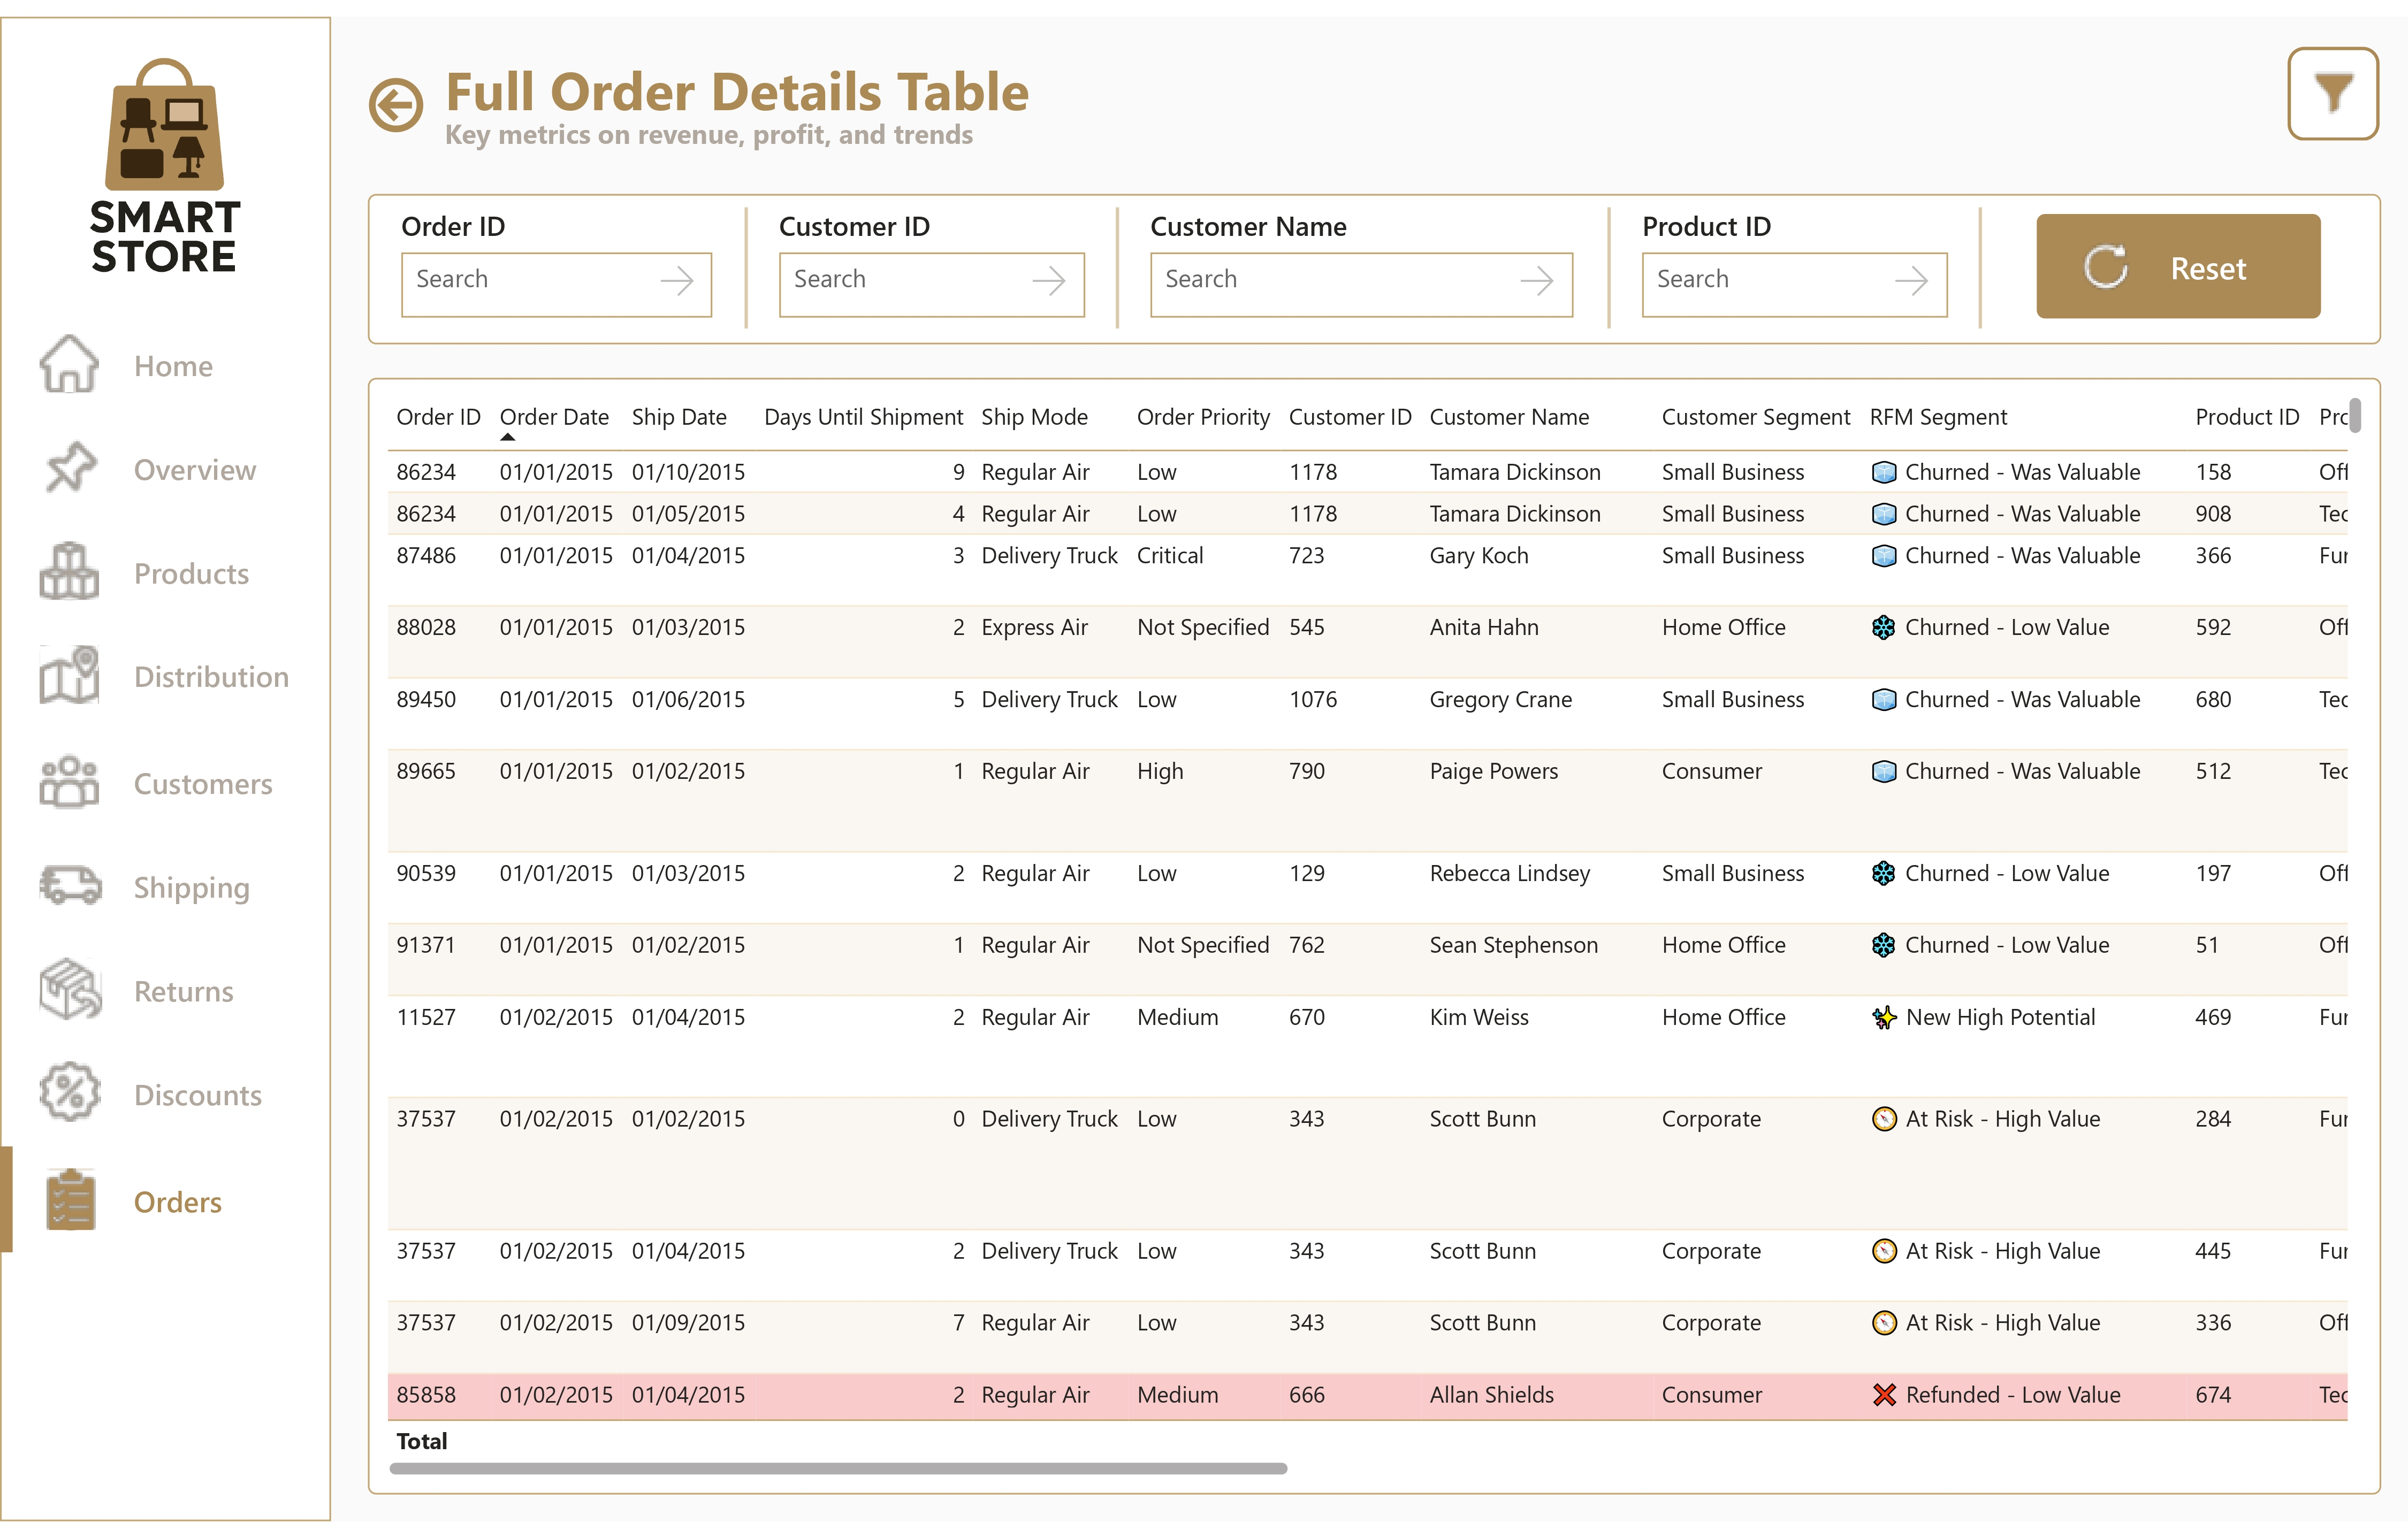

This screenshot's page, from the dashboard's own definition file:
{"tool":"powerbi","page":{"name":"Orders","canvas":[1440,900],"ordinal":8},"visuals":[{"type":"shape","box":[0,0,197.5,900],"z":0},{"type":"actionButton","box":[220,105,1203.8,90],"z":1000},{"type":"actionButton","box":[0,175,197.5,62.5],"z":2000},{"type":"actionButton","box":[0,237.5,197.5,62.5],"z":3000},{"type":"actionButton","box":[0,362.5,197.5,62.5],"z":4000},{"type":"actionButton","box":[0,425,197.5,62.5],"z":5000},{"type":"actionButton","box":[0,487.5,197.5,62.5],"z":7000},{"type":"actionButton","box":[0,550,197.1,62.9],"z":8000},{"type":"actionButton","box":[0,675,196.2,62.5],"z":9000},{"type":"actionButton","box":[0,300,197.5,62.5],"z":10000},{"type":"tableEx","fields":{"Values":["Orders.order_id","Orders.order_date","OrderItems.ship_date","OrderItems.days_until_shipment","OrderItems.ship_mode","Orders.order_priority","Customers.customer_id","Customers.customer_name","Customers.customer_segment","Customers.RFM_Segment","Products.product_id","Products.product_category"]},"box":[220,215,1203.8,667.5],"z":11000},{"type":"actionButton","title":"Show Filters Btn","box":[1368.8,17.5,55,56.2],"z":12000},{"type":"textbox","box":[265,54,390,33.8],"z":13000},{"type":"textbox","title":"Text Box","box":[265,15,717.5,61.2],"z":14000},{"type":"actionButton","box":[220,35,33.8,33.8],"z":15000},{"type":"actionButton","box":[1217.5,118.8,170,62.5],"z":16000},{"type":"shape","box":[1167.5,113.8,32.5,72.5],"z":17000},{"type":"shape","box":[430,113.8,32.5,72.5],"z":18000},{"type":"shape","box":[652.5,113.8,32.5,72.5],"z":19000},{"type":"shape","box":[945,113.8,32.5,72.5],"z":20000},{"type":"textSlicer","title":"Order ID","fields":{"Values":["Orders.order_id"]},"box":[220,113.8,226.2,71.2],"z":21000},{"type":"textSlicer","title":"Customer ID","fields":{"Values":["Customers.customer_id"]},"box":[446.2,113.8,222.5,71.2],"z":22000},{"type":"textSlicer","title":"Customer Name","fields":{"Values":["Customers.customer_name"]},"box":[668.8,113.8,292.5,71.2],"z":23000},{"type":"textSlicer","title":"Product ID","fields":{"Values":["Products.product_id"]},"box":[961.2,113.8,222.5,71.2],"z":24000},{"type":"actionButton","box":[0,612.5,197.5,62.5],"z":26000},{"type":"image","box":[22.5,13.8,152.5,152.5],"z":26250}]}

Visuals, with their boxes on the page's 1440x900 design canvas (x1, y1, x2, y2). These are canvas units, not pixel positions in the 2408x1538 screenshot, which may show the page scaled, cropped or inside an application window:
shape: box(0, 0, 198, 900)
actionButton: box(220, 105, 1424, 195)
actionButton: box(0, 175, 198, 238)
actionButton: box(0, 238, 198, 300)
actionButton: box(0, 362, 198, 425)
actionButton: box(0, 425, 198, 488)
actionButton: box(0, 488, 198, 550)
actionButton: box(0, 550, 197, 613)
actionButton: box(0, 675, 196, 738)
actionButton: box(0, 300, 198, 362)
tableEx - Orders.order_id x Orders.order_date: box(220, 215, 1424, 882)
"Show Filters Btn" actionButton: box(1369, 18, 1424, 74)
textbox: box(265, 54, 655, 88)
"Text Box" textbox: box(265, 15, 982, 76)
actionButton: box(220, 35, 254, 69)
actionButton: box(1218, 119, 1388, 181)
shape: box(1168, 114, 1200, 186)
shape: box(430, 114, 462, 186)
shape: box(652, 114, 685, 186)
shape: box(945, 114, 978, 186)
"Order ID" textSlicer: box(220, 114, 446, 185)
"Customer ID" textSlicer: box(446, 114, 669, 185)
"Customer Name" textSlicer: box(669, 114, 961, 185)
"Product ID" textSlicer: box(961, 114, 1184, 185)
actionButton: box(0, 612, 198, 675)
image: box(22, 14, 175, 166)
